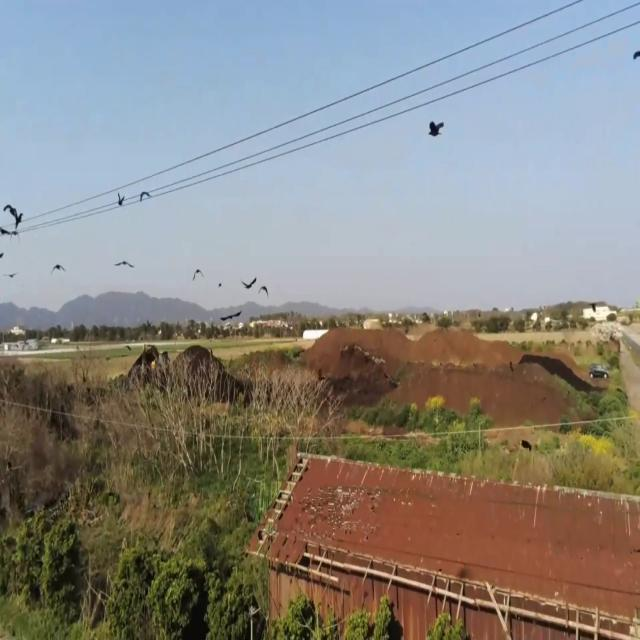bird: (3, 196, 23, 234), (428, 112, 444, 143), (116, 253, 133, 275), (51, 255, 65, 280), (242, 272, 256, 296), (139, 186, 151, 208), (192, 263, 204, 284), (632, 42, 640, 67), (260, 280, 268, 302), (117, 187, 124, 210), (0, 244, 4, 264)
